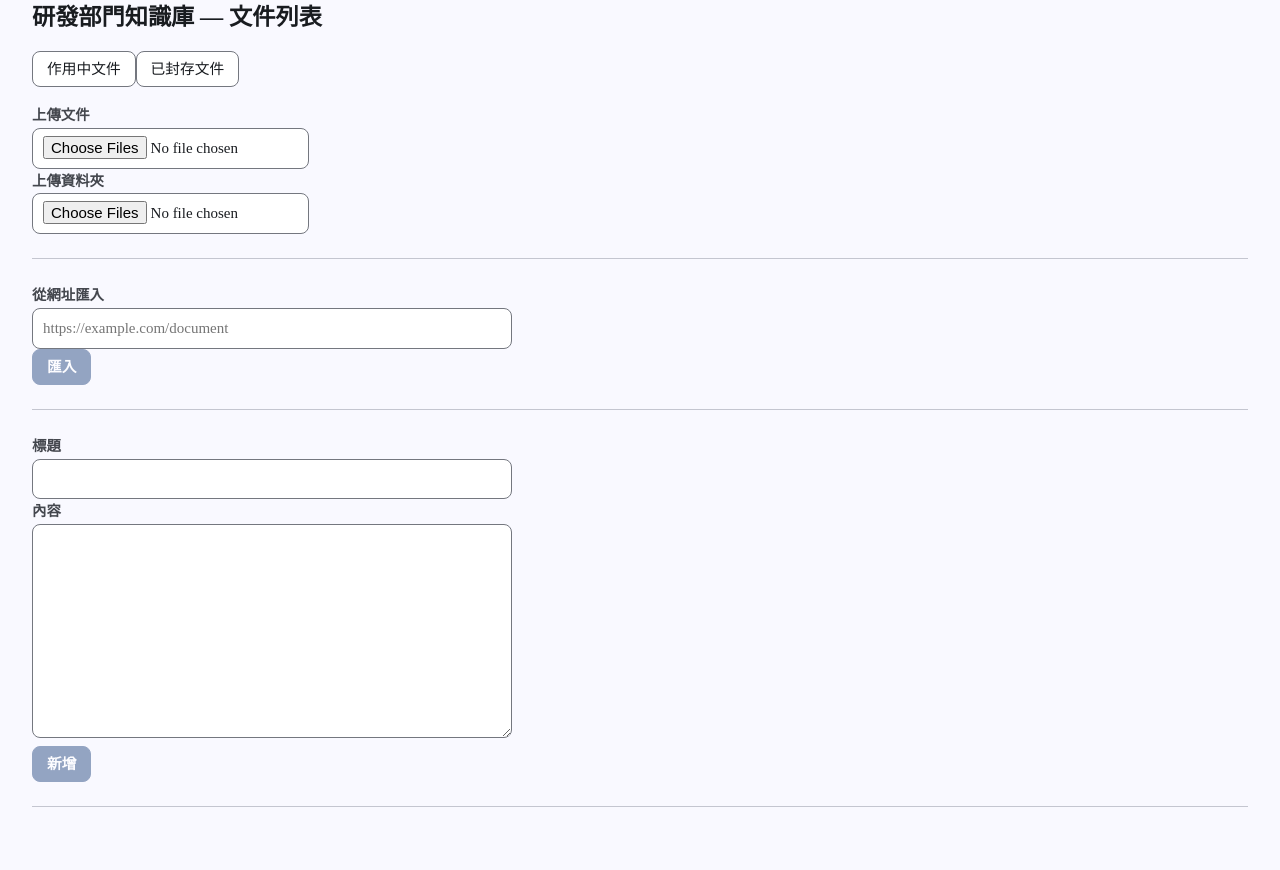
Test case: KnowledgeDocumentList (E05-S010) › refreshes the document list after successfully adding text knowledge, same as after upload/URL import
The image size is (1280, 870).
Type "退貨政策" into the field labelled "標題" at {"x": 272, "y": 479}, box [32,459,512,499]
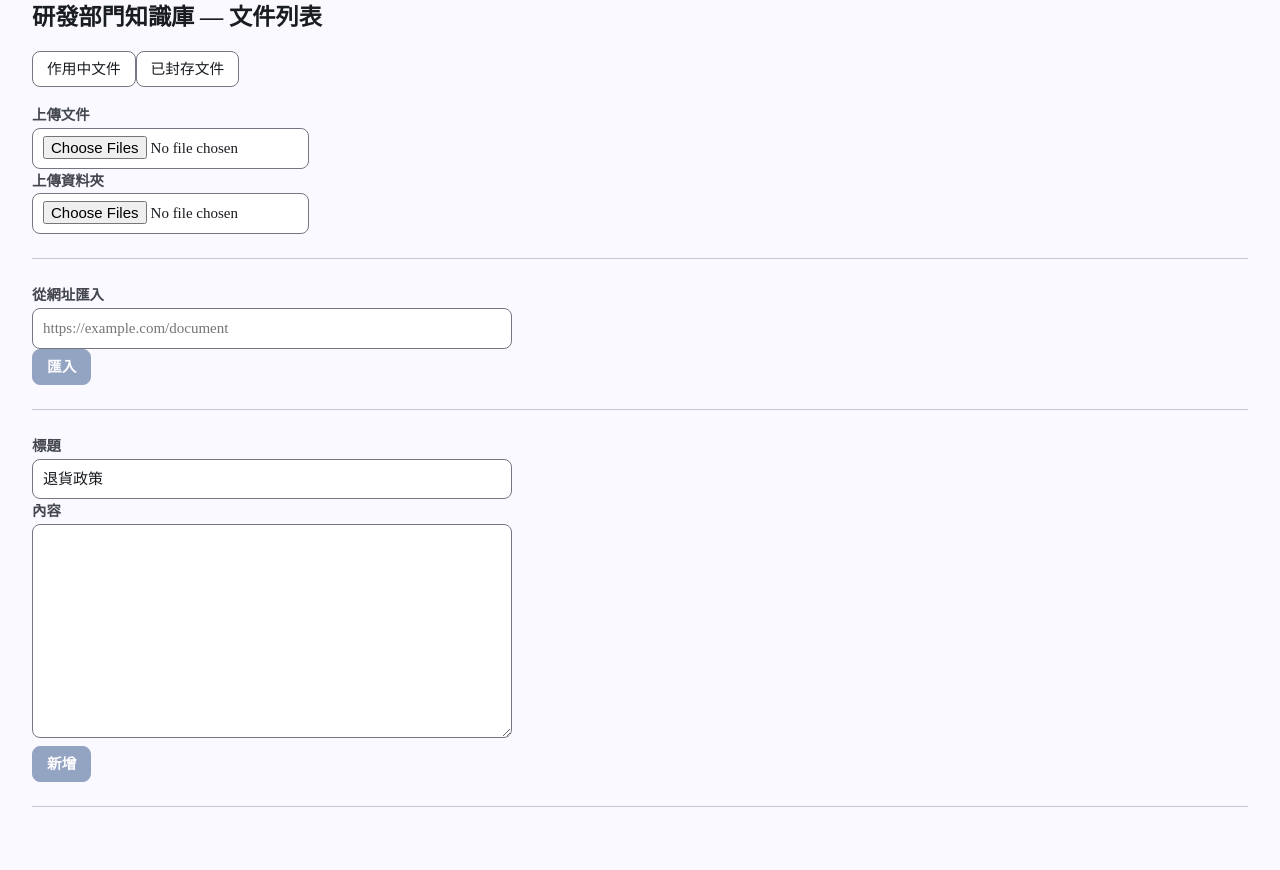
Type "7 天內可退貨。" into the text box labelled "內容" at {"x": 272, "y": 631}, box [32,524,512,738]
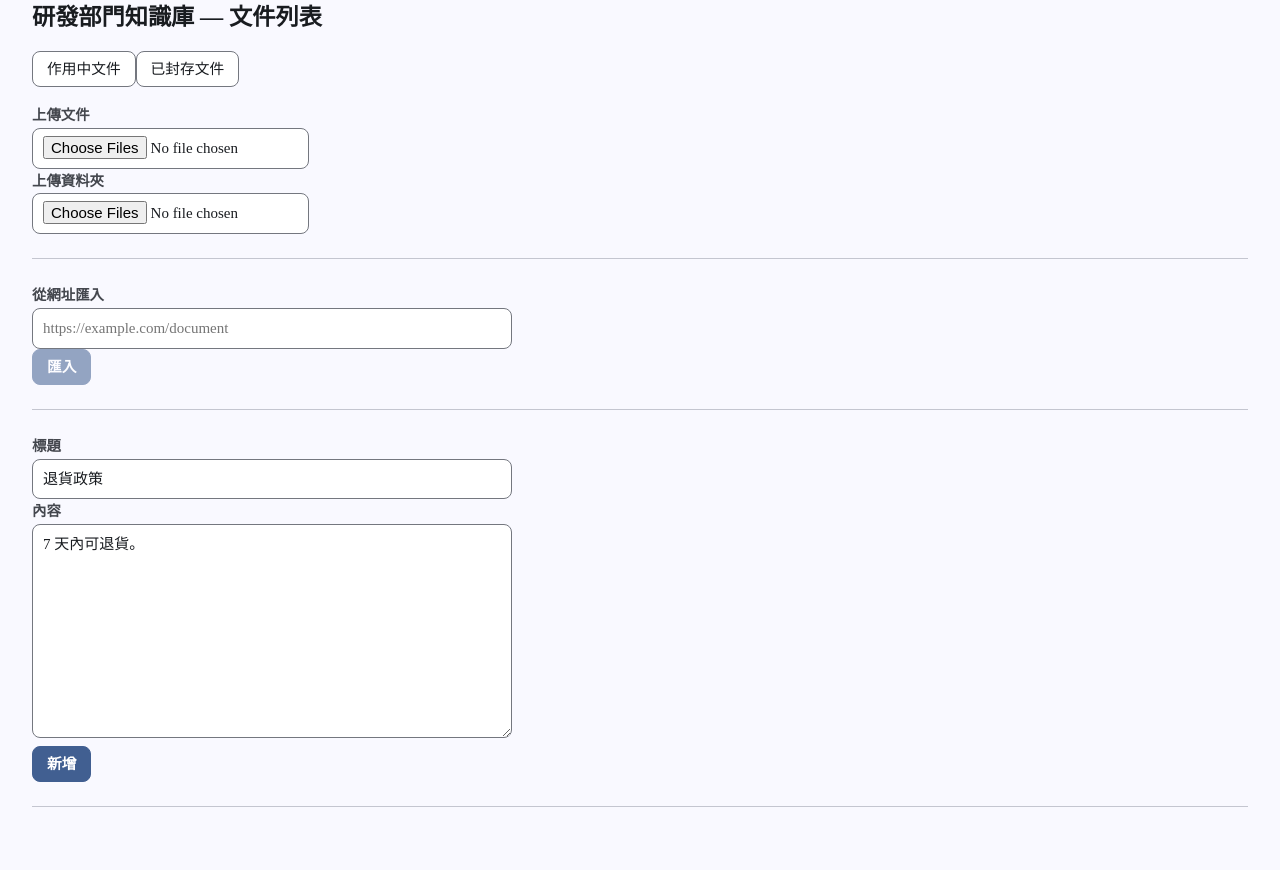
Click the button "新增" at {"x": 62, "y": 764}, box [32,746,92,782]
(page scrolled)
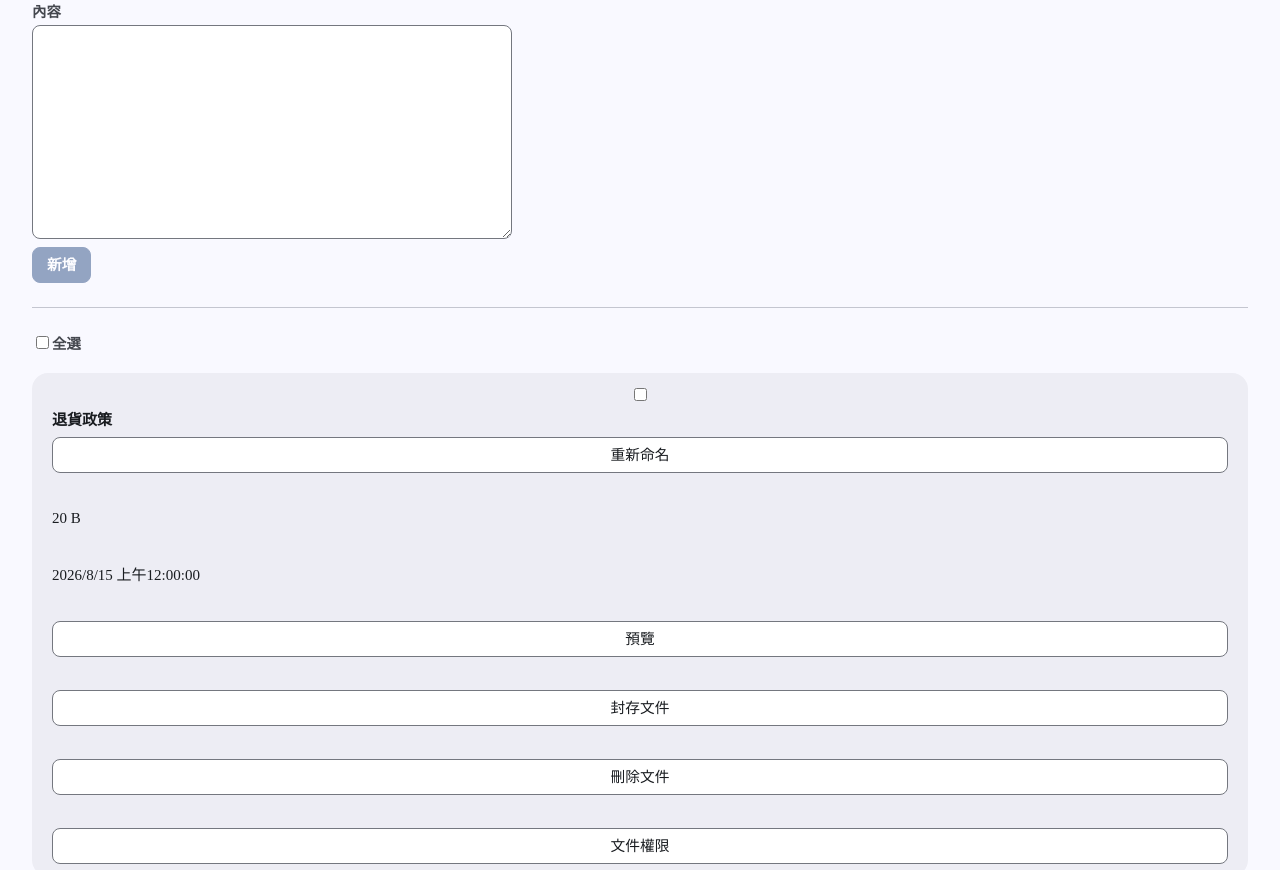
Now the text "退貨政策" is shown, box [52,412,112,428]
